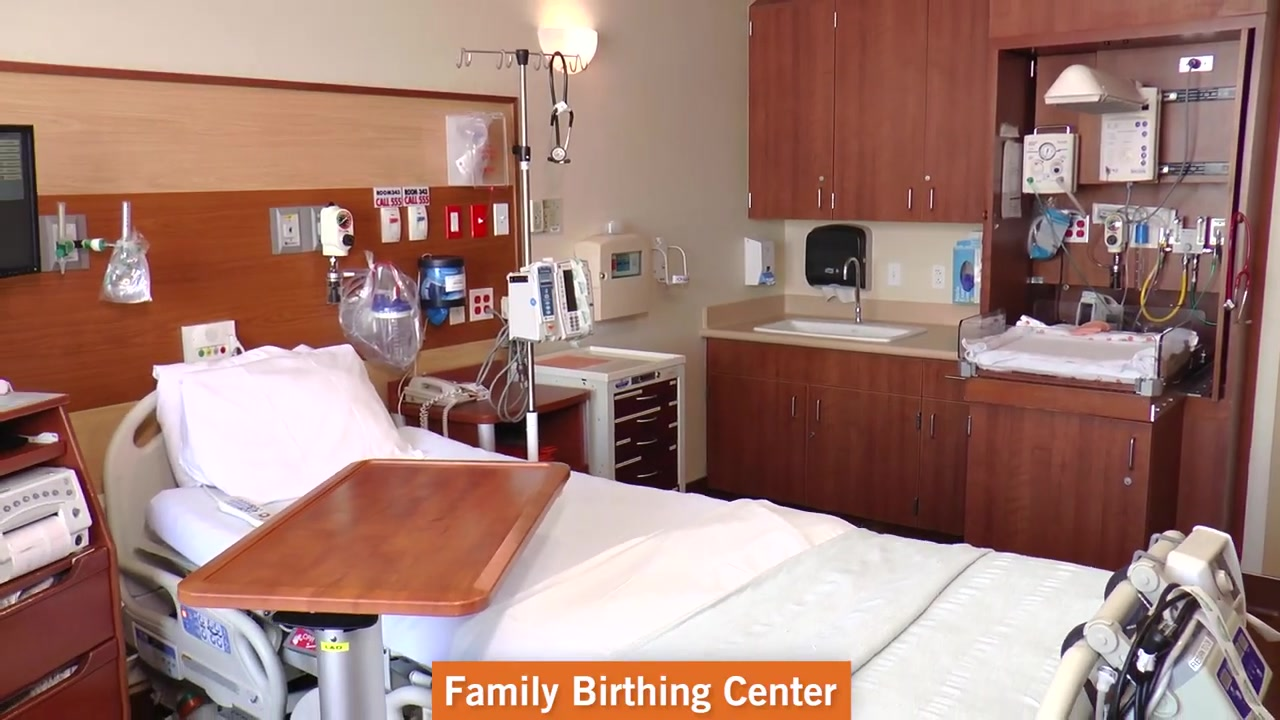bedrail: (115, 549, 287, 720), (388, 682, 436, 720)
bedside_table: (386, 358, 591, 475)
cabinet: (744, 1, 996, 218)
counter: (706, 319, 1203, 569)
countertop: (699, 314, 981, 361)
dispenser: (803, 222, 873, 293), (950, 236, 981, 305), (742, 235, 776, 287)
drawer: (1, 391, 130, 720)
faucet: (842, 256, 864, 323)
foot_board: (1033, 529, 1188, 720)
handle: (1126, 434, 1137, 471), (927, 411, 939, 440), (633, 413, 661, 425), (634, 468, 661, 480), (634, 436, 660, 448), (788, 393, 800, 418), (904, 187, 915, 212), (635, 392, 659, 403), (926, 186, 936, 211), (814, 397, 823, 423), (815, 187, 823, 209)
hospital_bed: (103, 378, 1175, 720)
infusion_pump: (506, 256, 596, 346)
iv_pole: (455, 46, 589, 463)
light_switch: (491, 202, 514, 239), (471, 201, 491, 237)
medical_drawer: (508, 345, 688, 494)
medical_waste_container: (576, 240, 652, 319)
overbed_table: (177, 458, 572, 720)
panda_baby_warmer: (966, 53, 1202, 390)
sequential_compression: (1153, 609, 1280, 720)
sink: (752, 318, 928, 350)
telephone: (402, 375, 474, 432)
